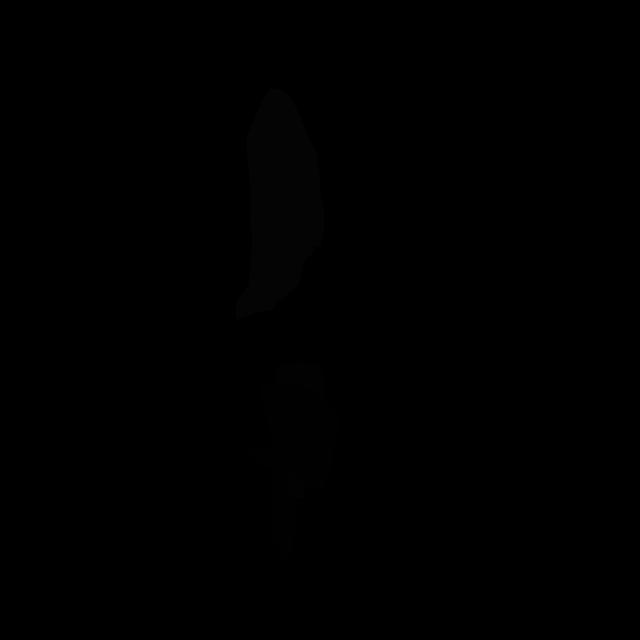cardboard: (276, 361, 325, 400), (288, 471, 306, 499)
rigid_plastic: (246, 384, 340, 492), (271, 471, 298, 560)
soft_plastic: (236, 88, 324, 320)
